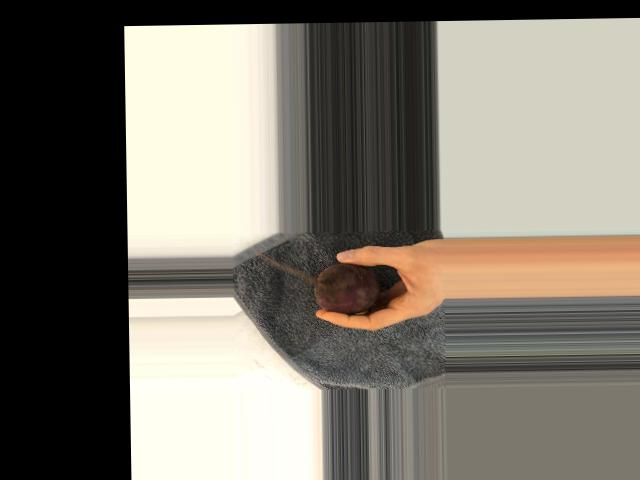beet: (314, 262, 380, 314)
